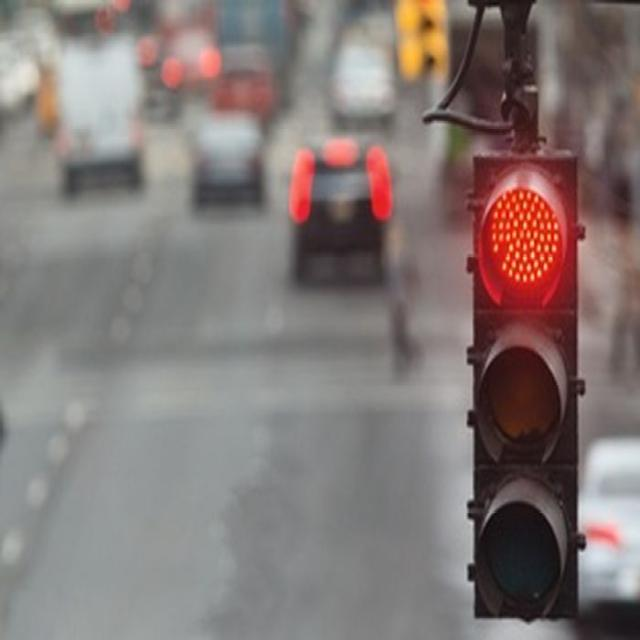Merah: (489, 182, 562, 288)
